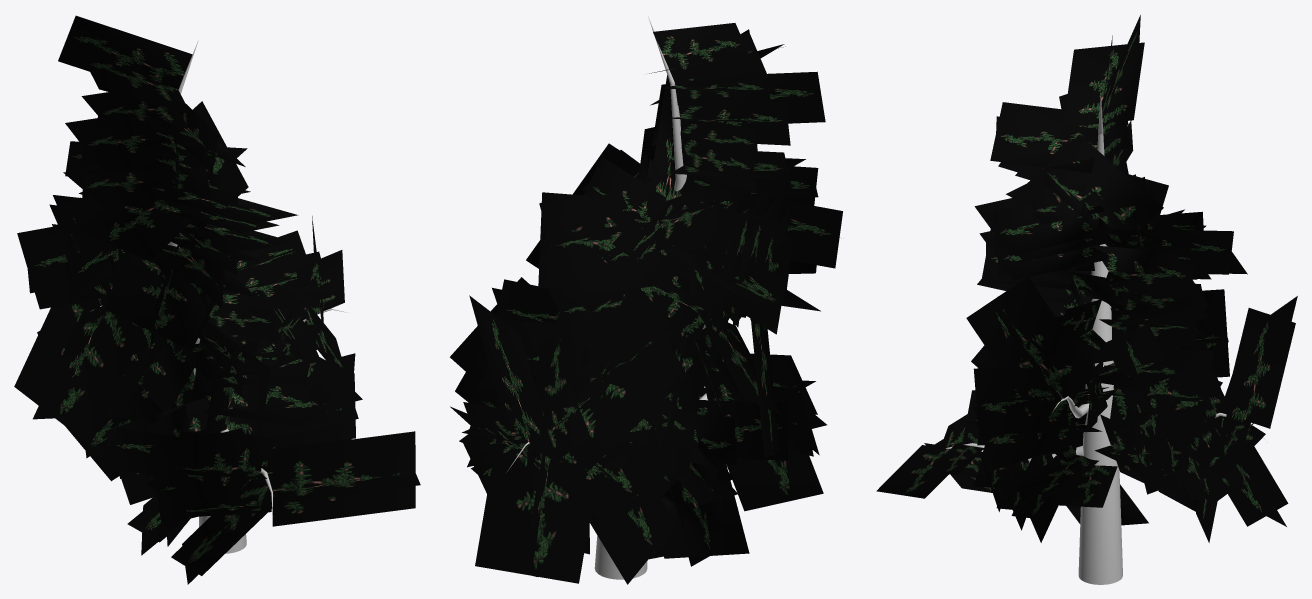
The model's file is Pine_Tree.FBX.
The picture shows the model from 3 angles, left to right: view 1: azimuth 30°, elevation 25°; view 2: azimuth 150°, elevation 25°; view 3: azimuth 270°, elevation 25°; orthographic projection. The views are drawn at different scales.
Parts seen in each view (by area): view 1: Leaves001, Cone001; view 2: Leaves001, Cone001; view 3: Leaves001, Cone001.
Boxes of the visible parts, x1=… form: Leaves001: x1=14, y1=15, x2=420, y2=584; Cone001: x1=92, y1=41, x2=348, y2=553; Leaves001: x1=450, y1=23, x2=842, y2=584; Cone001: x1=507, y1=16, x2=707, y2=579; Leaves001: x1=876, y1=15, x2=1297, y2=542; Cone001: x1=945, y1=91, x2=1267, y2=584.
Size of the model in its own units: 393 by 648 by 491.
